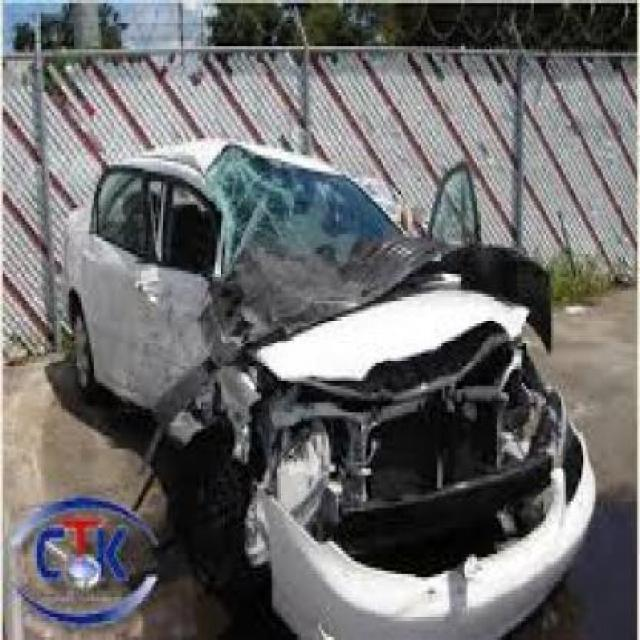accident: (46, 112, 634, 639)
